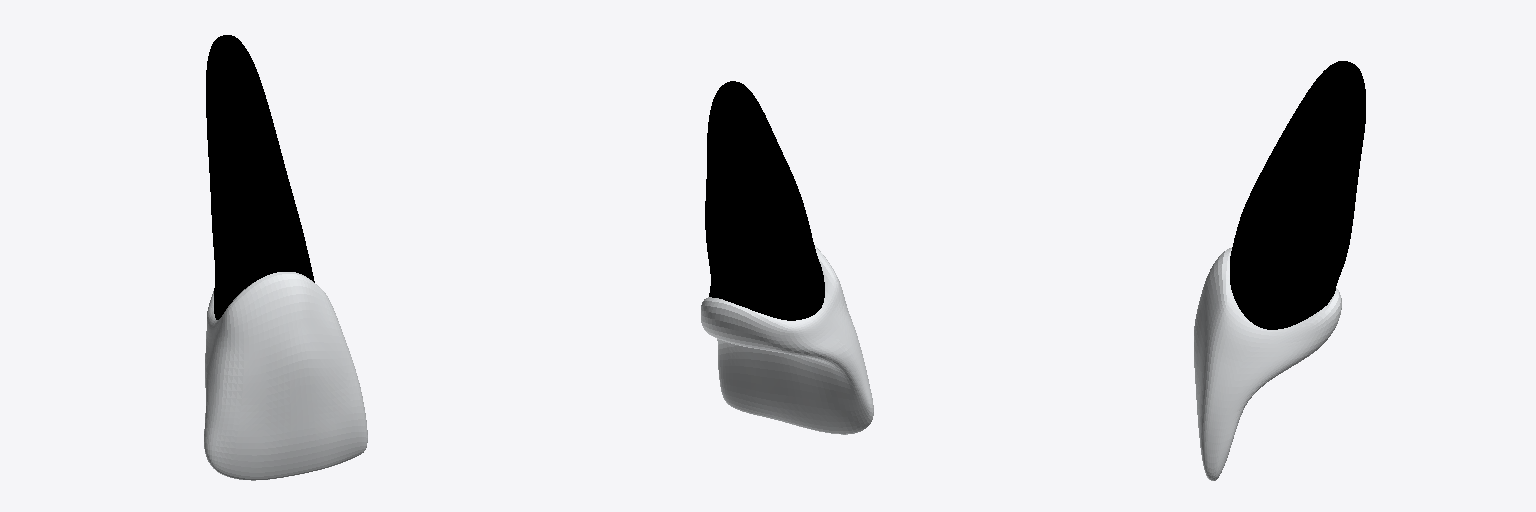
Rendered from Tooth11.obj.
The picture shows the model from 3 angles: view 1: azimuth 30°, elevation 25°; view 2: azimuth 150°, elevation 25°; view 3: azimuth 270°, elevation 25°; orthographic projection.
Visible parts, largest first — view 1: maxilar_doble:polySurface57_maxilar_doble:polySurface110_ma.015, maxilar_doble:polySurface57_maxilar_doble:polySurface110_ma.036, maxilar_doble:polySurface57_maxilar_doble:polySurface111_ma.015, maxilar_doble:polySurface57_maxilar_doble:polySurface112_ma.015, maxilar_doble:polySurface57_maxilar_doble:polySurface111_ma.016, maxilar_doble:polySurface57_maxilar_doble:polySurface112_ma.002; view 2: maxilar_doble:polySurface57_maxilar_doble:polySurface110_ma.036, maxilar_doble:polySurface57_maxilar_doble:polySurface111_ma.015, maxilar_doble:polySurface57_maxilar_doble:polySurface110_ma.015, maxilar_doble:polySurface57_maxilar_doble:polySurface111_ma.016, maxilar_doble:polySurface57_maxilar_doble:polySurface112_ma.015, maxilar_doble:polySurface57_maxilar_doble:polySurface112_ma.002; view 3: maxilar_doble:polySurface57_maxilar_doble:polySurface110_ma.036, maxilar_doble:polySurface57_maxilar_doble:polySurface111_ma.016, maxilar_doble:polySurface57_maxilar_doble:polySurface110_ma.015, maxilar_doble:polySurface57_maxilar_doble:polySurface112_ma.015, maxilar_doble:polySurface57_maxilar_doble:polySurface111_ma.015, maxilar_doble:polySurface57_maxilar_doble:polySurface112_ma.002.
Boxes of the visible parts, box(x1,y1,x2,y2) form: maxilar_doble:polySurface57_maxilar_doble:polySurface110_ma.015: box(204, 283, 367, 480); maxilar_doble:polySurface57_maxilar_doble:polySurface110_ma.036: box(206, 56, 314, 319); maxilar_doble:polySurface57_maxilar_doble:polySurface111_ma.015: box(207, 275, 365, 476); maxilar_doble:polySurface57_maxilar_doble:polySurface112_ma.015: box(205, 272, 363, 430); maxilar_doble:polySurface57_maxilar_doble:polySurface111_ma.016: box(212, 172, 311, 278); maxilar_doble:polySurface57_maxilar_doble:polySurface112_ma.002: box(208, 35, 249, 62); maxilar_doble:polySurface57_maxilar_doble:polySurface110_ma.036: box(705, 96, 824, 320); maxilar_doble:polySurface57_maxilar_doble:polySurface111_ma.015: box(701, 268, 870, 430); maxilar_doble:polySurface57_maxilar_doble:polySurface110_ma.015: box(701, 250, 873, 434); maxilar_doble:polySurface57_maxilar_doble:polySurface111_ma.016: box(705, 221, 816, 299); maxilar_doble:polySurface57_maxilar_doble:polySurface112_ma.015: box(705, 246, 861, 390); maxilar_doble:polySurface57_maxilar_doble:polySurface112_ma.002: box(711, 81, 754, 117); maxilar_doble:polySurface57_maxilar_doble:polySurface110_ma.036: box(1230, 77, 1365, 329); maxilar_doble:polySurface57_maxilar_doble:polySurface111_ma.016: box(1230, 170, 1354, 294); maxilar_doble:polySurface57_maxilar_doble:polySurface110_ma.015: box(1194, 249, 1338, 480); maxilar_doble:polySurface57_maxilar_doble:polySurface112_ma.015: box(1194, 248, 1341, 440); maxilar_doble:polySurface57_maxilar_doble:polySurface111_ma.015: box(1195, 270, 1337, 477); maxilar_doble:polySurface57_maxilar_doble:polySurface112_ma.002: box(1319, 61, 1365, 93).
Bounding box in the file's own units: 0.7717 × 1.85 × 0.7433.